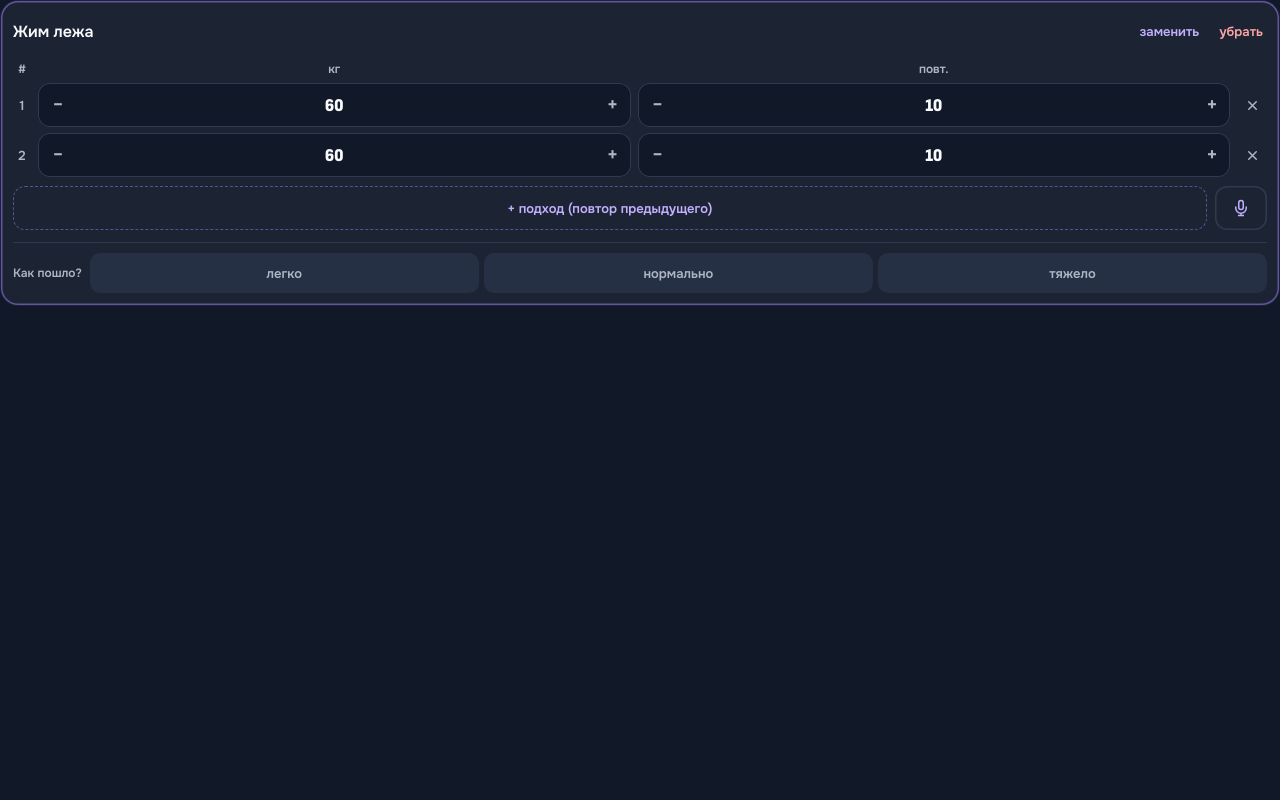
Test: подход голосом в карточке › номер подхода из фразы; несуществующий подход и непонятное — без кнопки записи
This screenshot has width=1280, height=800.
Click the button named "Сказать подход голосом". click: (1241, 208)
box: [1215,186,1267,230]
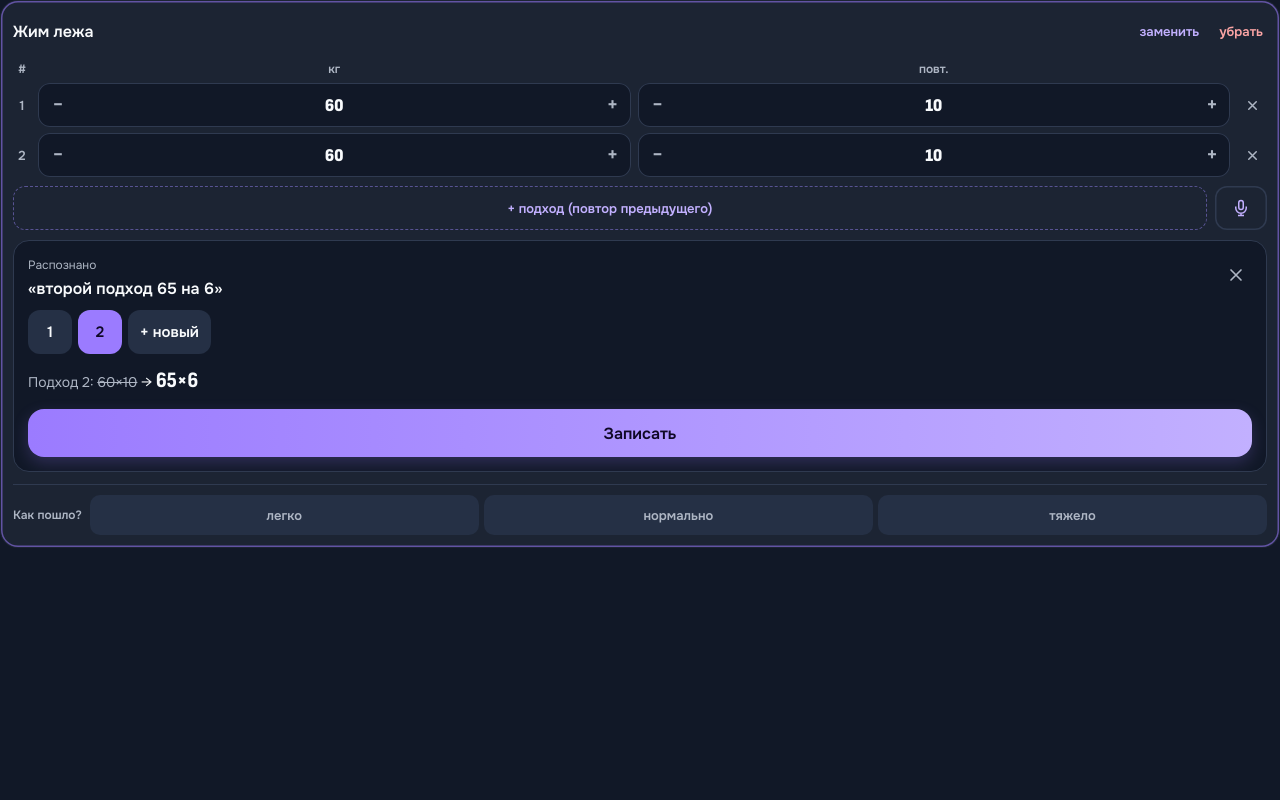
Click the button named "Сказать подход голосом". click: (1241, 208)
box: [1215,186,1267,230]
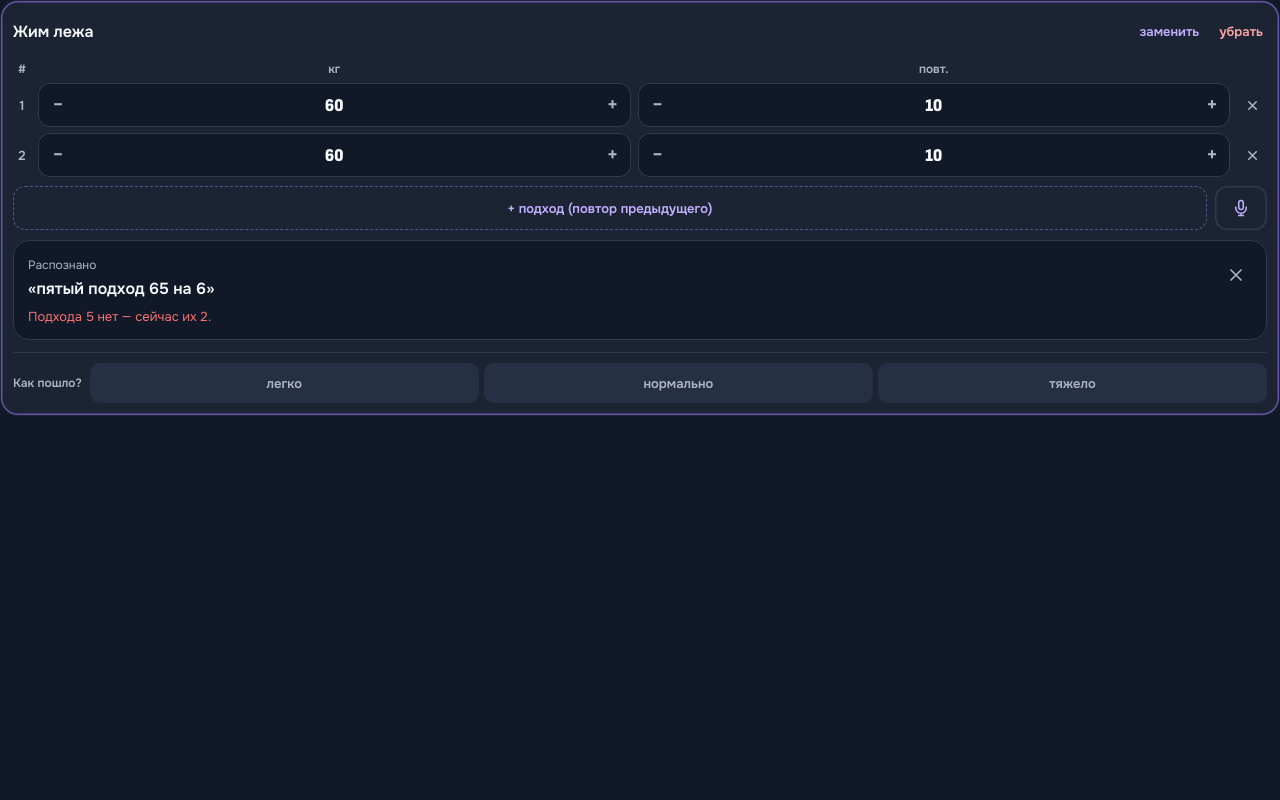
expect the message reads "Подхода 5 нет — сейчас их 2.": met, box [28,308,211,325]
expect the button "Записать" is gone: met
Click the button named "Сказать подход голосом". click: (1241, 208)
box: [1215,186,1267,230]
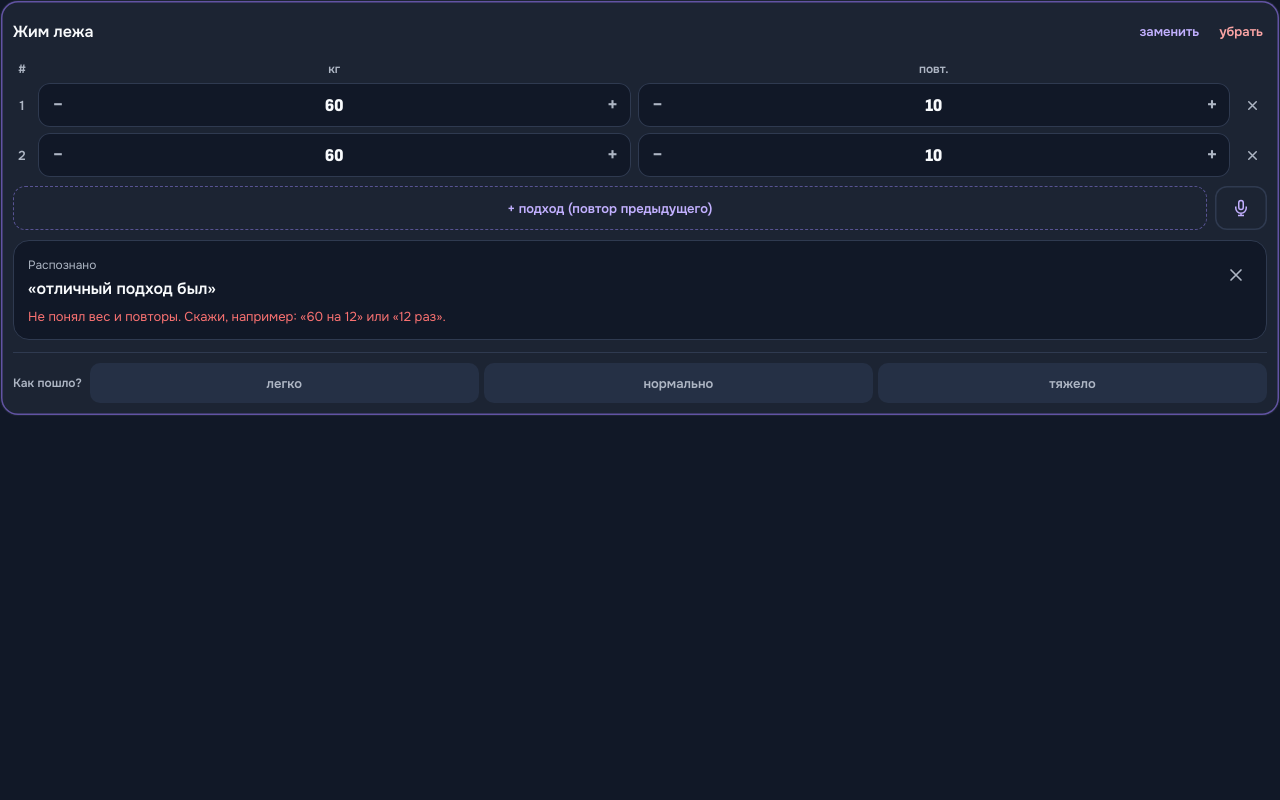
expect the message shows "Не понял вес и повторы": met, box [28,308,446,325]
Click the button named "Отменить подход голосом". click: (1236, 275)
box: [1214,253,1258,297]
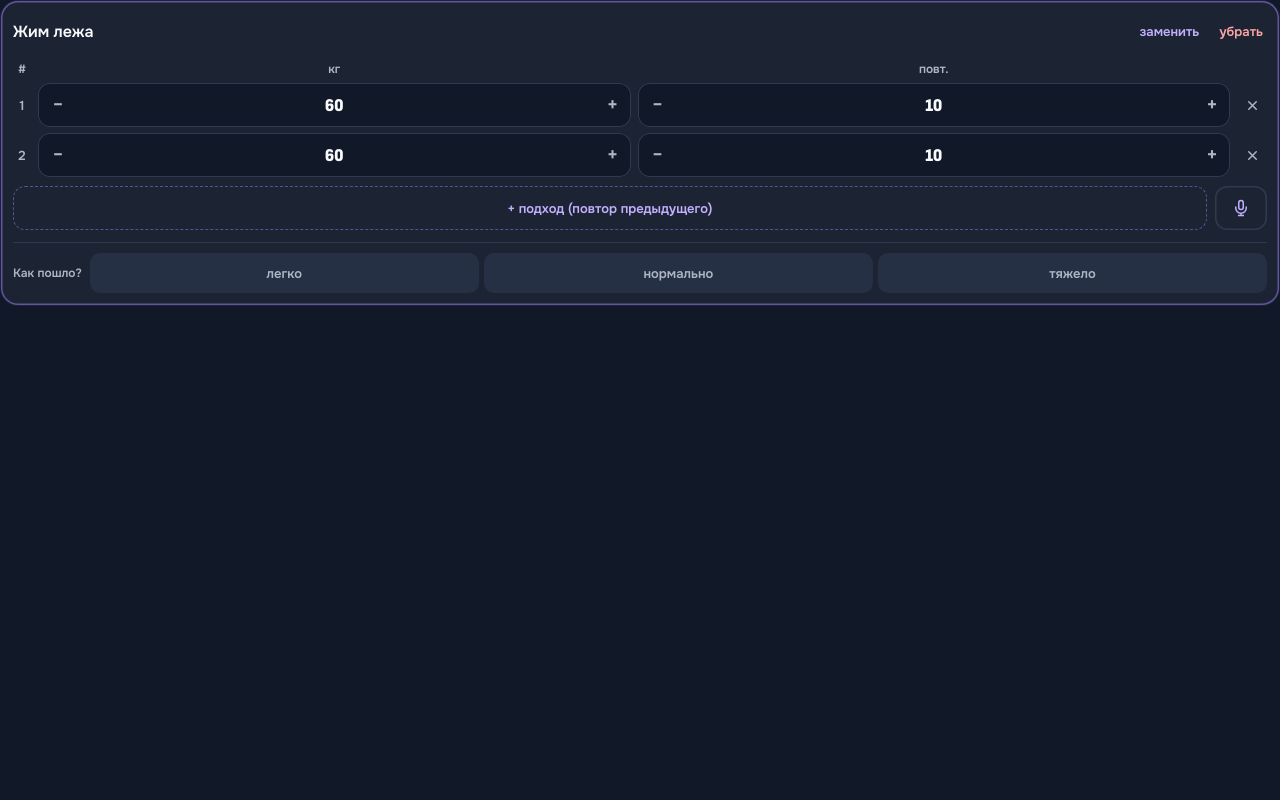
expect the text "Распознано" is gone: met
